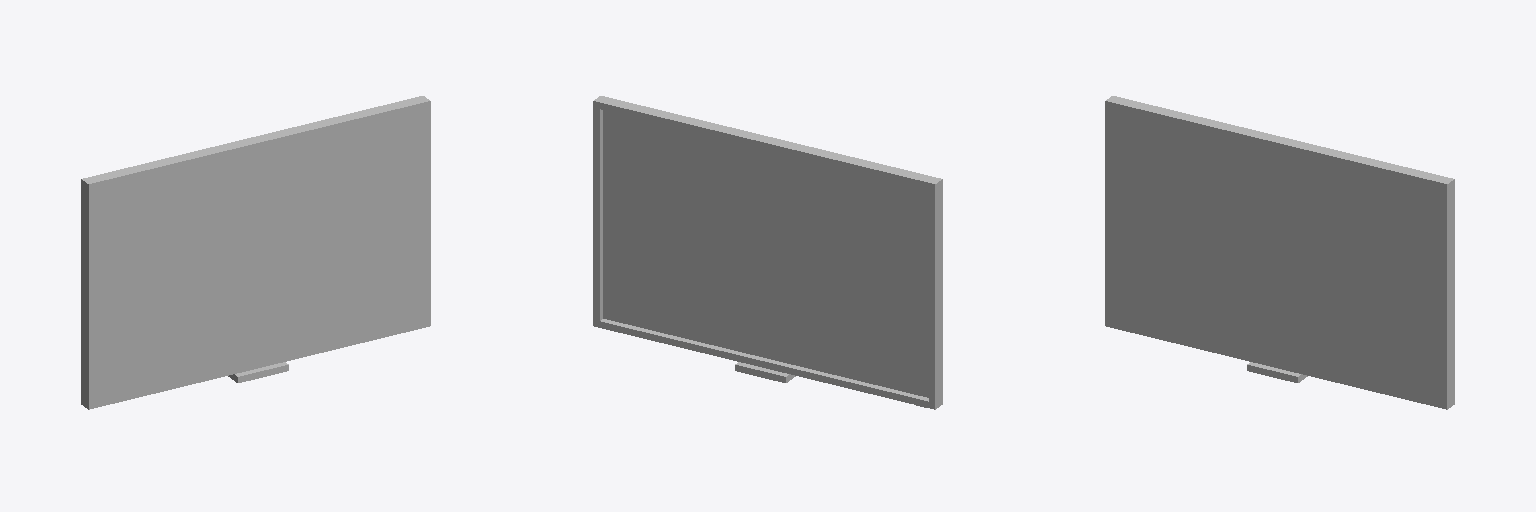
File: uhd_tv.obj
3 views of the same model, side by side, from view 1: azimuth 30°, elevation 25°; view 2: azimuth 150°, elevation 25°; view 3: azimuth 330°, elevation 25° (orthographic).
Parts seen in each view (by area): view 1: screen, top, right, bottom, left, holder; view 2: screen, top, bottom, right, left, holder; view 3: screen, top, left, bottom, right, holder.
Part boxes in pixels (x1,y1,x2,y2): screen: (95,109,423,401); top: (88,97,423,188); right: (81,178,94,409); bottom: (95,321,423,407); left: (418,96,430,327); holder: (228,362,288,382); screen: (603,110,928,397); top: (600,97,935,188); bottom: (600,319,928,404); right: (929,178,942,409); left: (593,96,605,327); holder: (735,362,795,382); screen: (1112,109,1440,401); top: (1112,97,1447,188); left: (1441,178,1454,409); bottom: (1112,321,1440,407); right: (1105,96,1117,327); holder: (1247,362,1307,382).
Bounding box in the file's own units: 3.38 × 2.19 × 0.25.